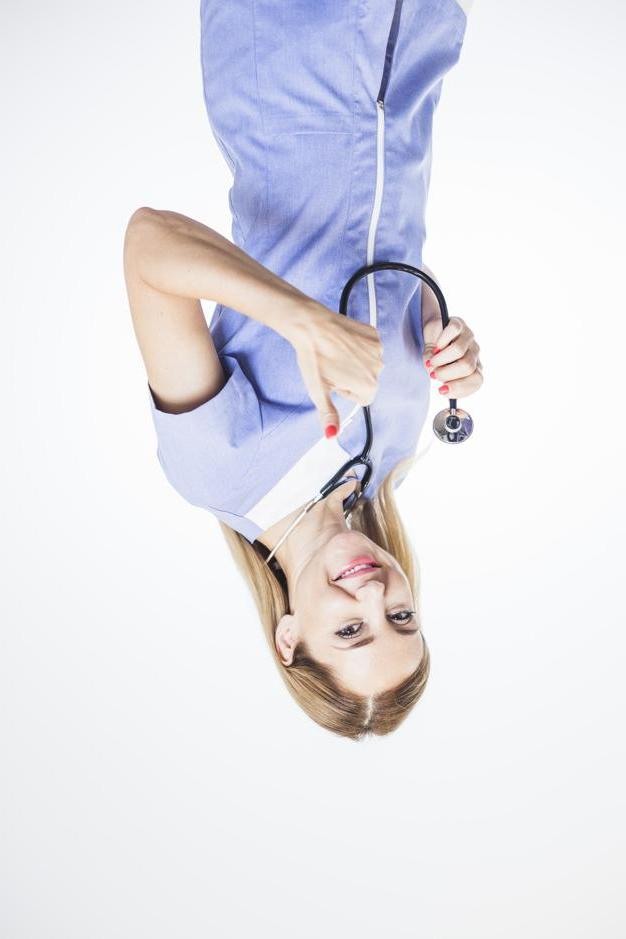thumbsdown: (319, 317, 384, 440)
